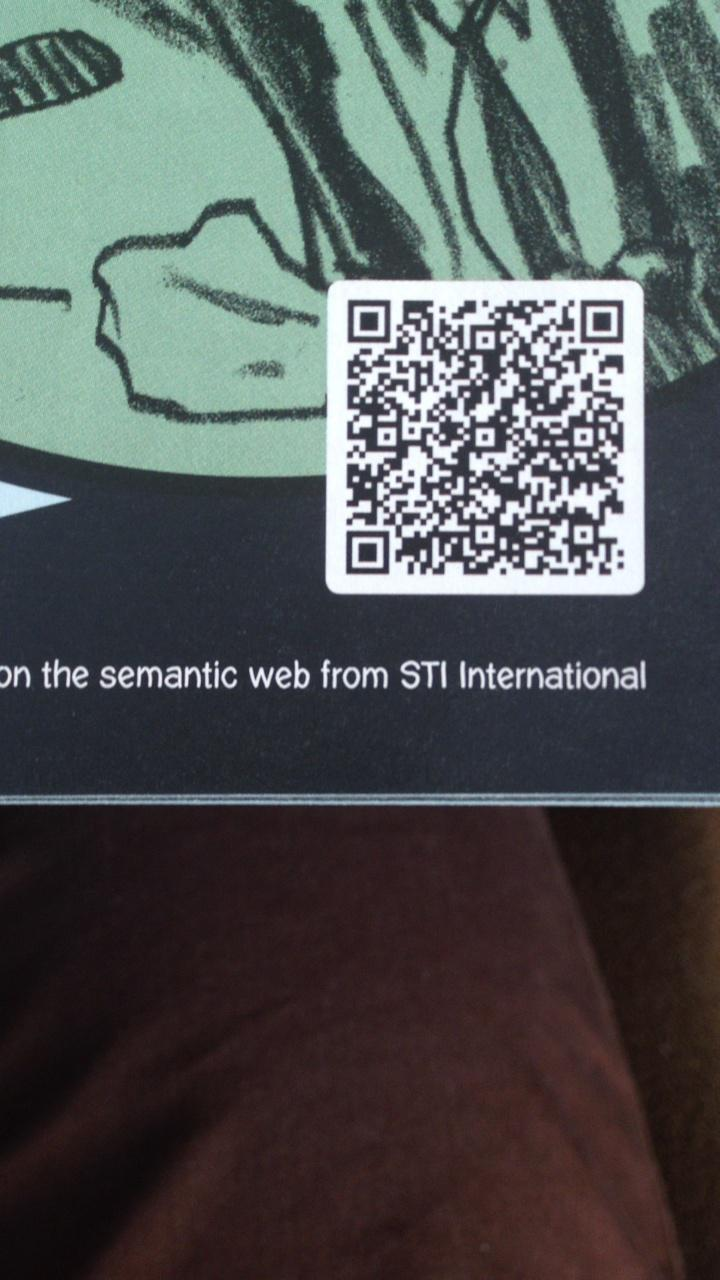Finder pattern: (337, 524, 397, 581), (341, 292, 397, 350), (574, 295, 631, 350)
